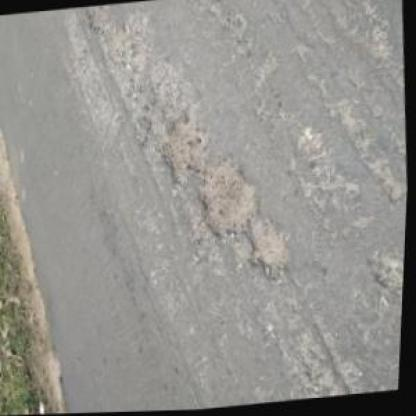pothole: (195, 152, 265, 242), (156, 114, 214, 186), (248, 216, 300, 282)
